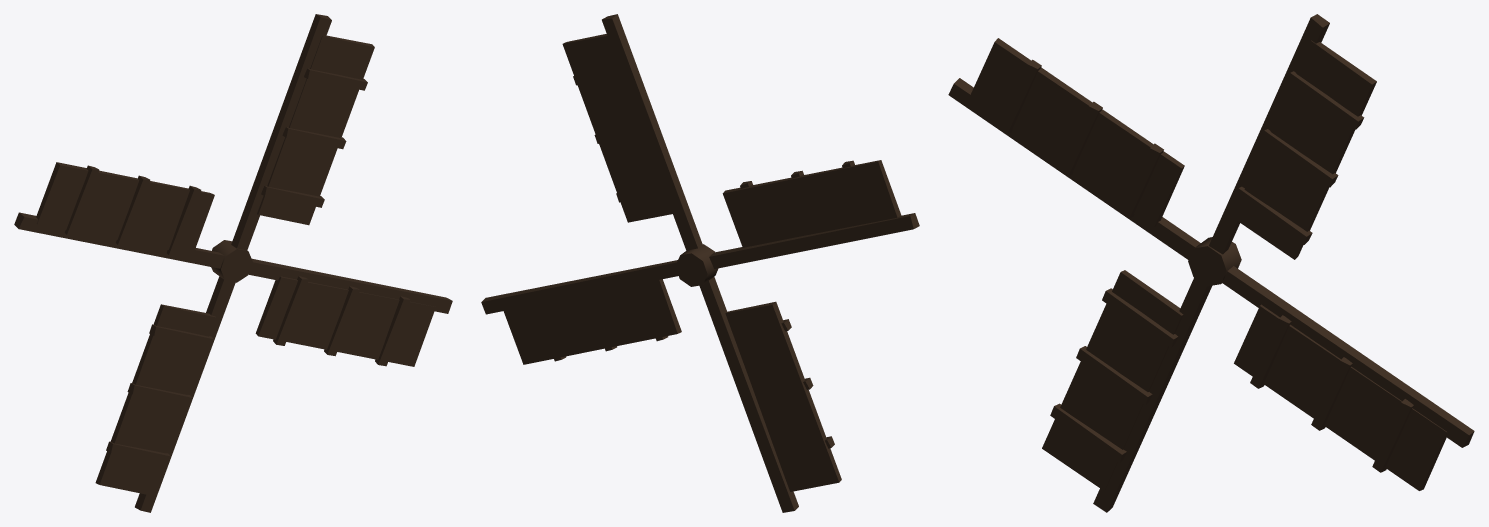
Rendered from painted-sails.glb.
3 views of the same model, side by side, from view 1: azimuth 30°, elevation 25°; view 2: azimuth 150°, elevation 25°; view 3: azimuth 330°, elevation 25° (orthographic). The views are drawn at different scales.
Visible parts, largest first — view 1: painted-sails-outline; view 2: painted-sails-outline; view 3: painted-sails-outline.
Boxes of the visible parts, left/top/right/bottom form: painted-sails-outline: left=14, top=14, right=452, bottom=512; painted-sails-outline: left=481, top=14, right=919, bottom=512; painted-sails-outline: left=948, top=14, right=1474, bottom=512.
Size of the model in its own units: 2.75 by 2.75 by 0.1722.
